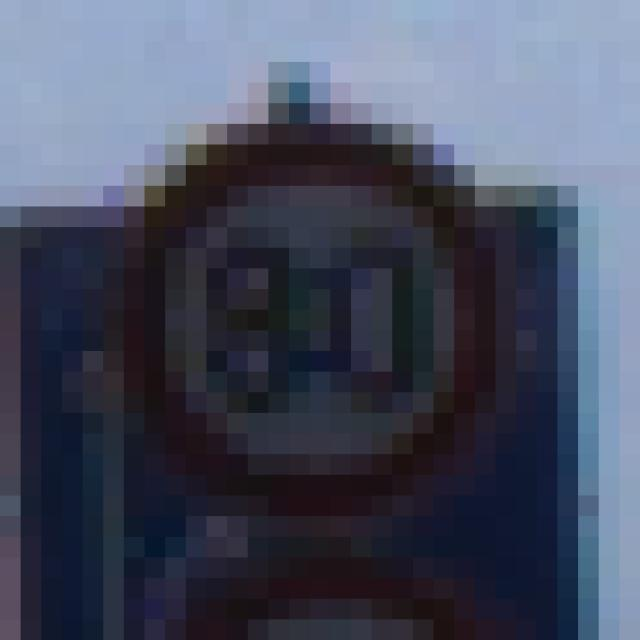Ograniczenie predkosci do 80: (142, 124, 492, 506)
